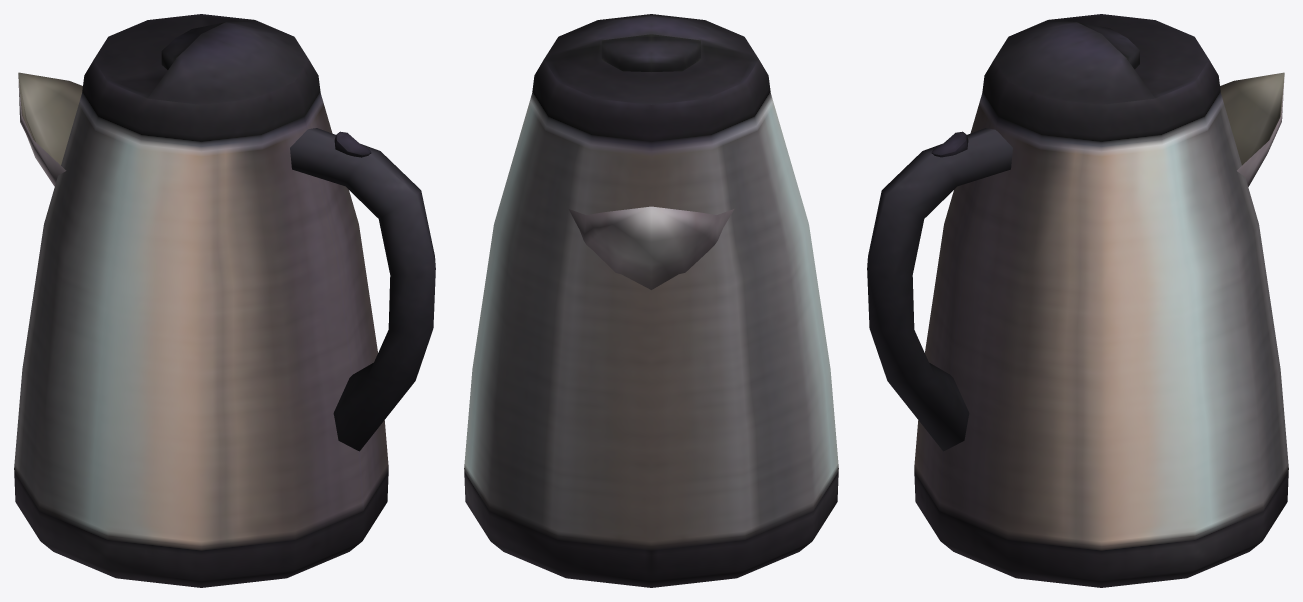
The model's file is PiErSenGongYu_01_shuihu_01.FBX.
3 renders of one model, left to right at view 1: azimuth 30°, elevation 25°; view 2: azimuth 150°, elevation 25°; view 3: azimuth 270°, elevation 25°, orthographic.
Visible parts, largest first — view 1: PiErSenDeGongYu_shuihu_01; view 2: PiErSenDeGongYu_shuihu_01; view 3: PiErSenDeGongYu_shuihu_01.
Part boxes in pixels (x1,y1,x2,y2): PiErSenDeGongYu_shuihu_01: [14, 14, 435, 587]; PiErSenDeGongYu_shuihu_01: [464, 14, 838, 587]; PiErSenDeGongYu_shuihu_01: [867, 14, 1288, 587].
Bounding box in the file's own units: 90.21 × 128 × 102.
